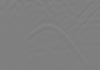hyperbola: (17, 22, 90, 64)
